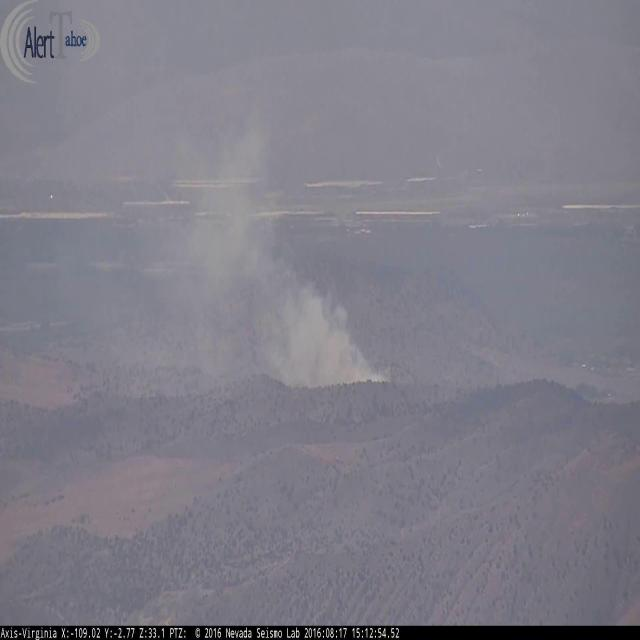smoke: (157, 101, 390, 385)
